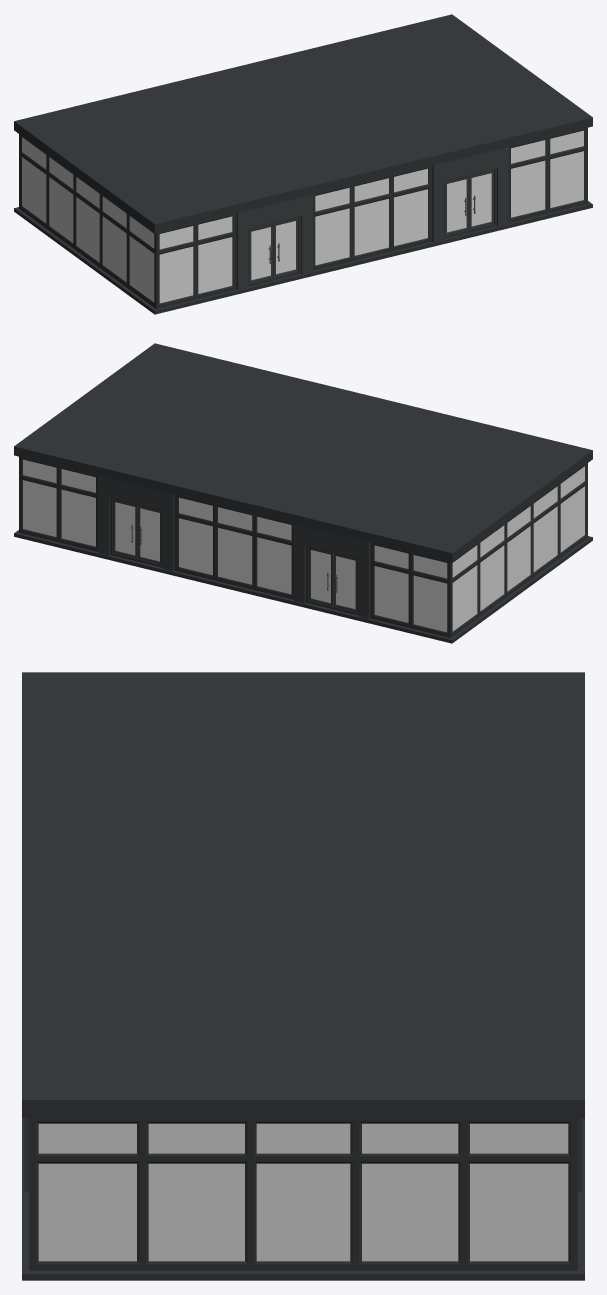
File: SM_Bldg_City_High-Rise_Modern_03_Base_02.fbx
The picture shows the model from 3 angles, top to bottom: view 1: azimuth 30°, elevation 25°; view 2: azimuth 150°, elevation 25°; view 3: azimuth 270°, elevation 25°; orthographic projection. The views are drawn at different scales.
Parts seen in each view (by area): view 1: SM_Bldg_City_High-Rise_Modern_03_Base_02; view 2: SM_Bldg_City_High-Rise_Modern_03_Base_02; view 3: SM_Bldg_City_High-Rise_Modern_03_Base_02.
Boxes of the visible parts, x1,y1,x2,y2 form: SM_Bldg_City_High-Rise_Modern_03_Base_02: [14, 14, 592, 314]; SM_Bldg_City_High-Rise_Modern_03_Base_02: [14, 343, 592, 643]; SM_Bldg_City_High-Rise_Modern_03_Base_02: [22, 672, 584, 1280].
Bounding box in the file's own units: 2030 × 400 × 1130.
